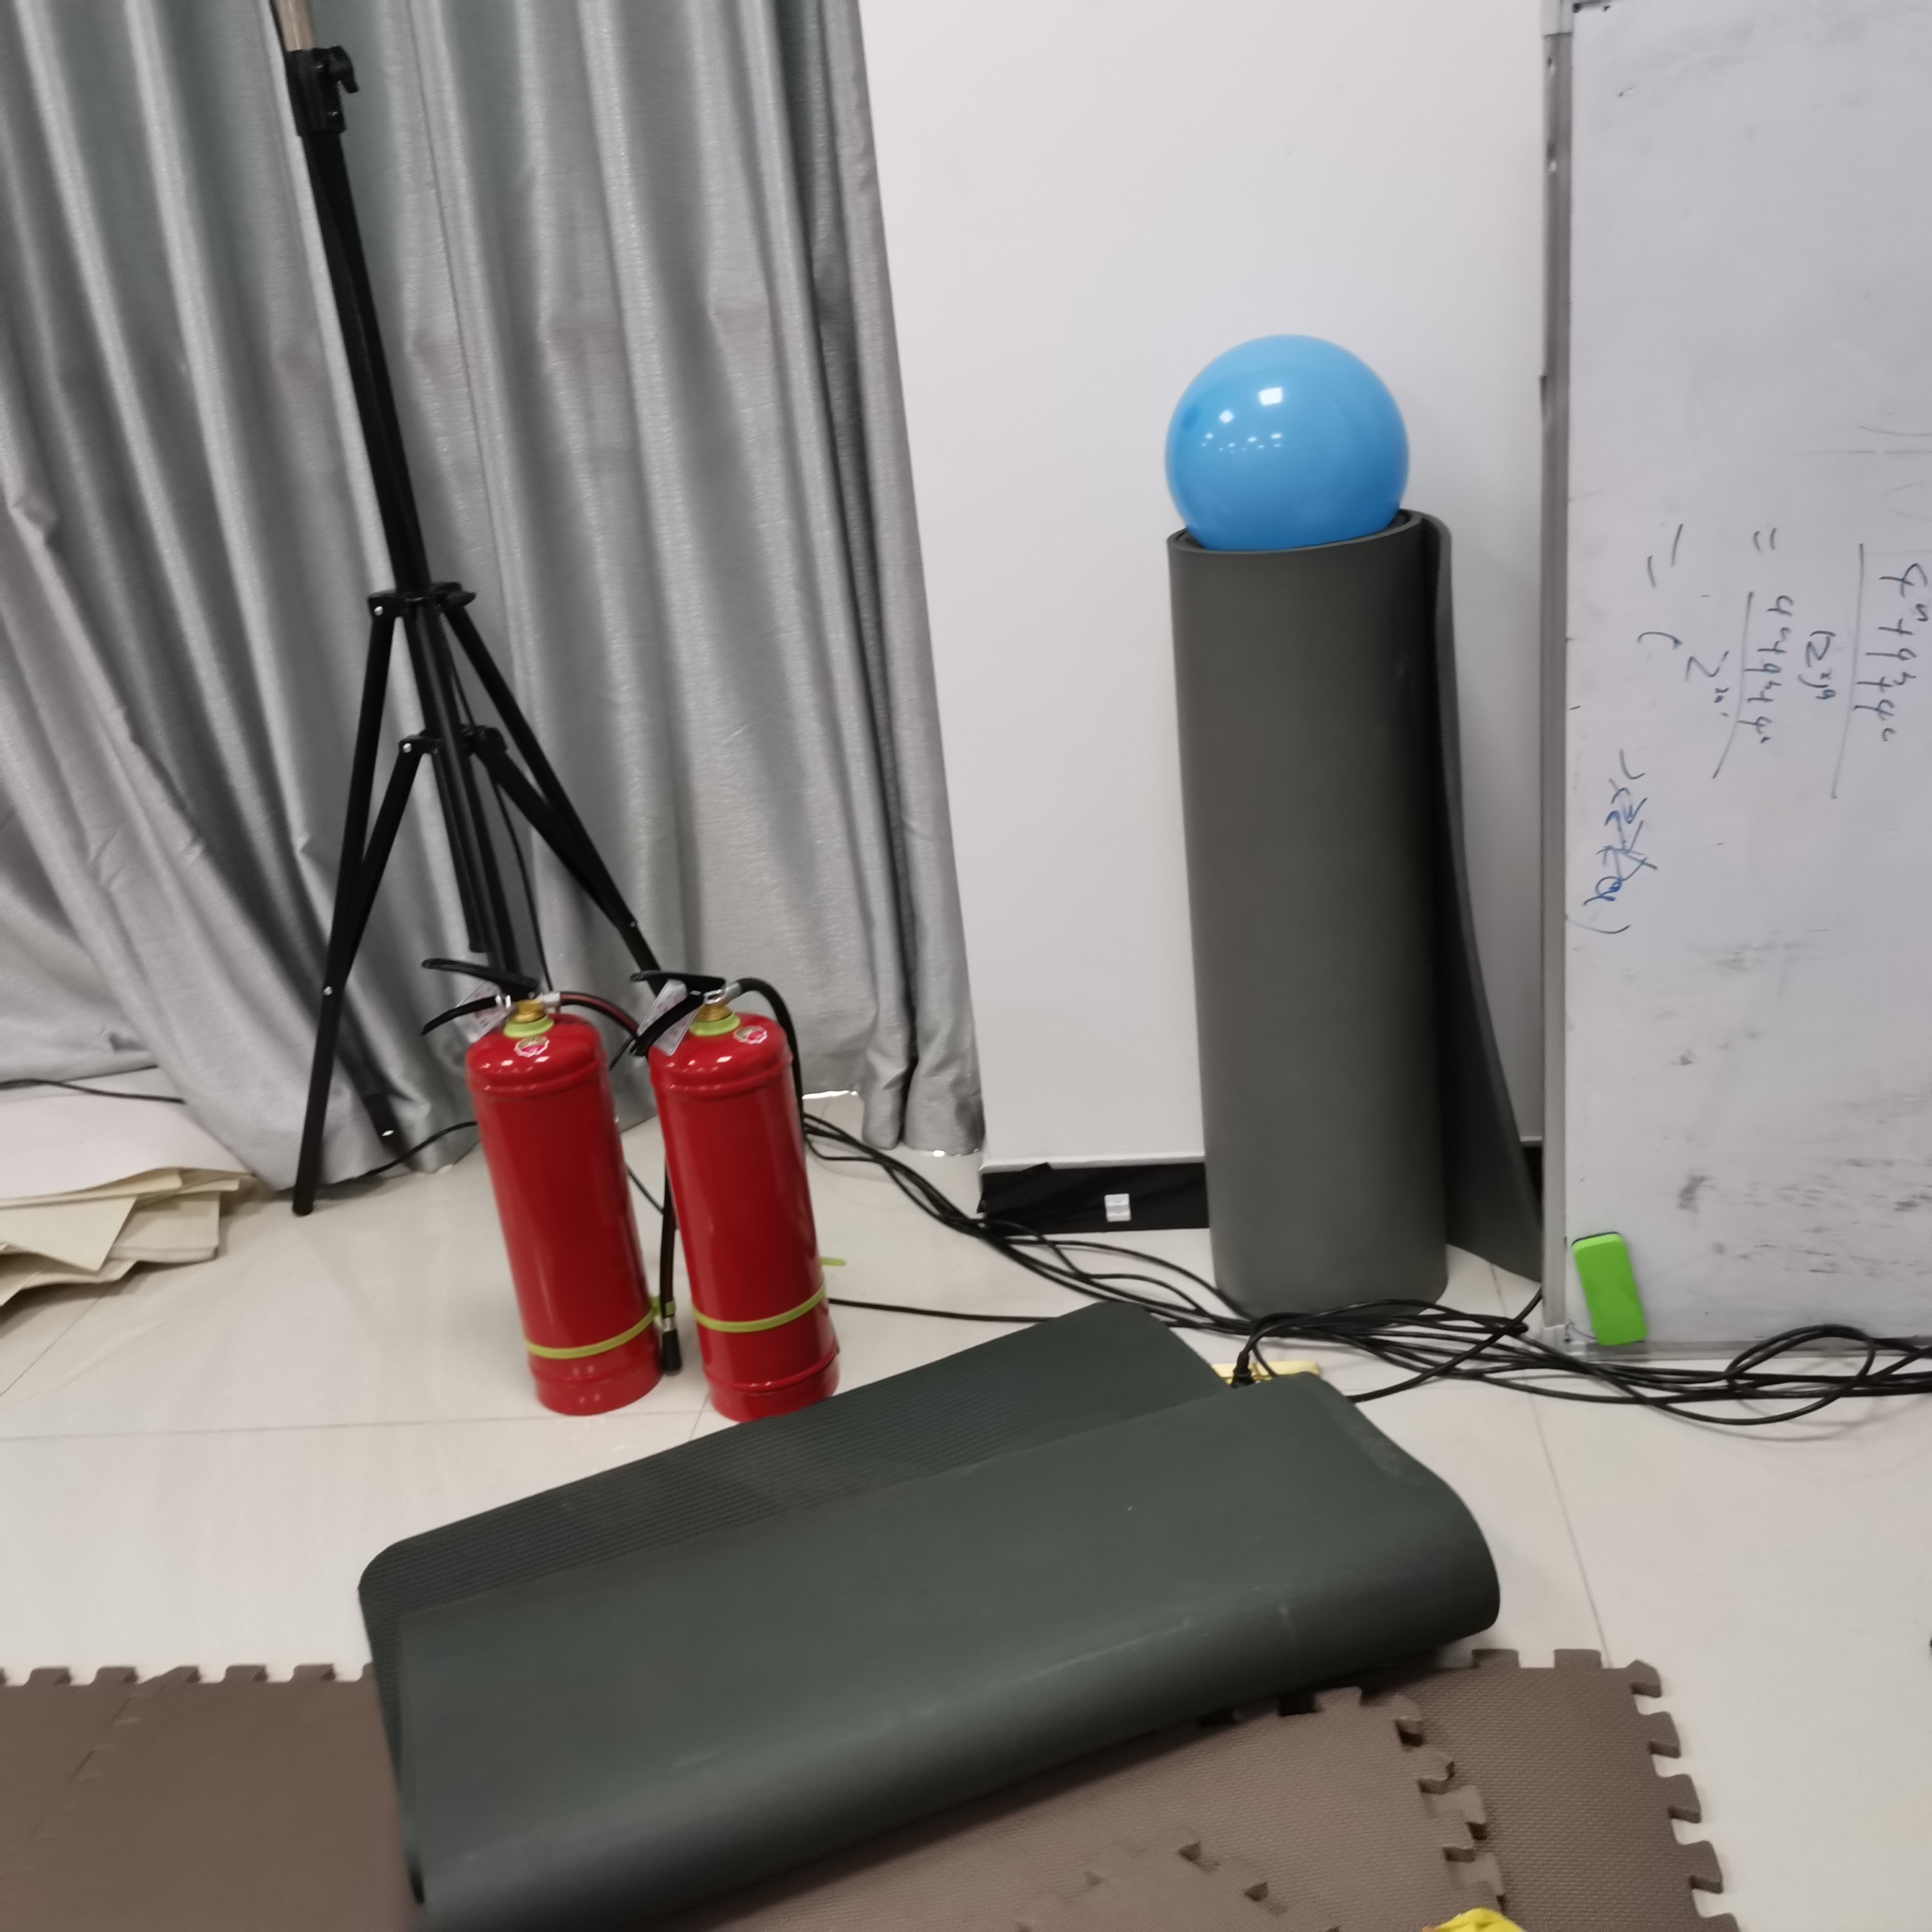balloon: (1164, 333, 1408, 547)
